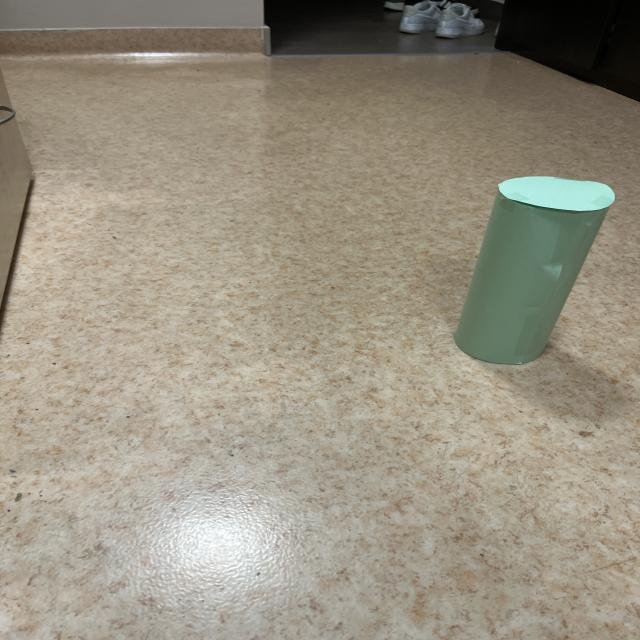meta: (455, 177, 614, 364)
